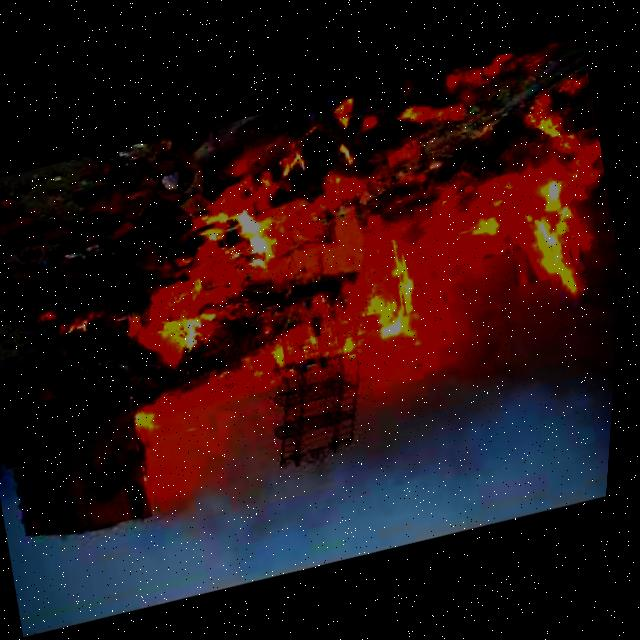Fire: (117, 183, 330, 376), (259, 219, 465, 410), (459, 180, 609, 330), (209, 136, 316, 209), (510, 85, 592, 173), (390, 81, 471, 141), (307, 140, 371, 209), (120, 397, 180, 454), (58, 311, 100, 348)
